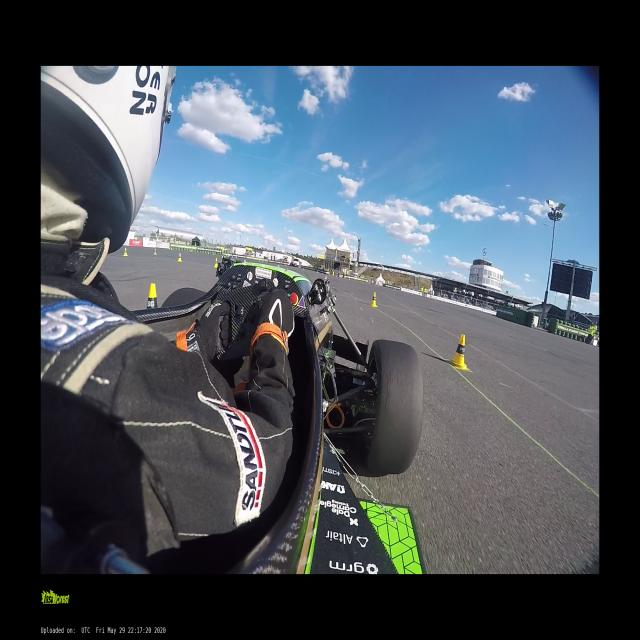yellow_cone: (450, 334, 470, 370), (147, 284, 157, 309), (370, 292, 377, 307), (214, 258, 218, 267), (178, 253, 182, 262), (124, 248, 128, 255), (153, 249, 157, 254)
